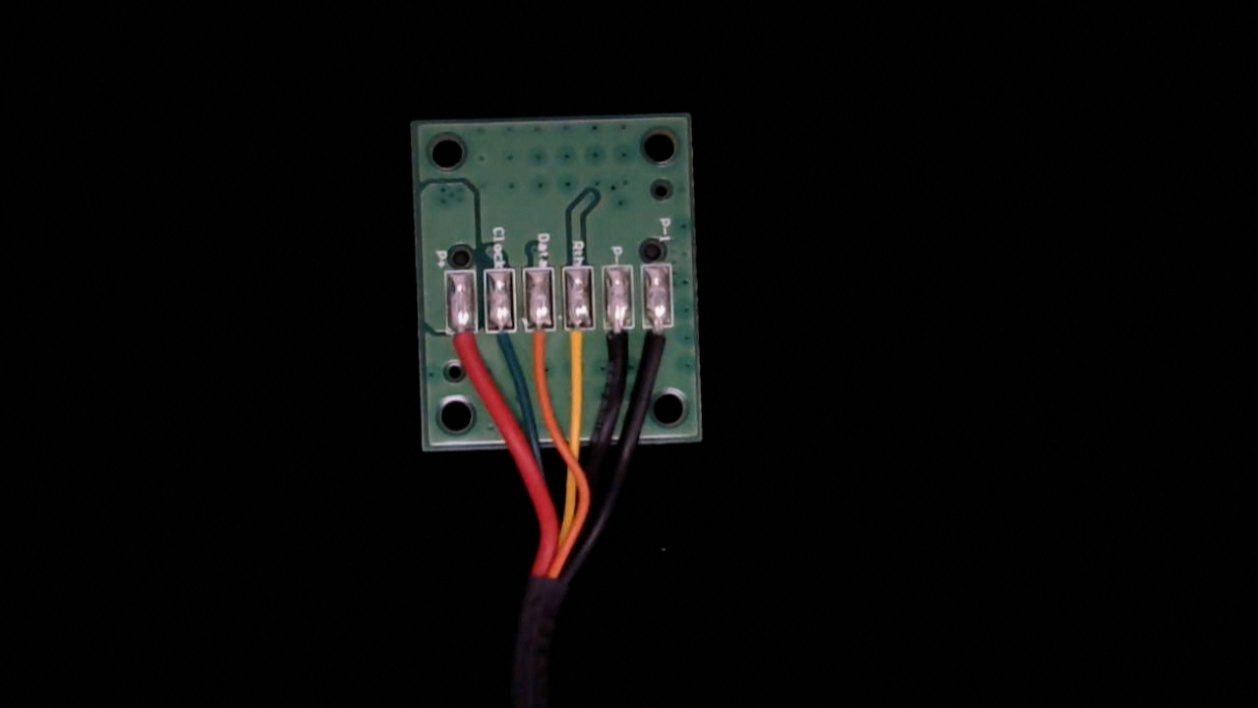Black: (604, 311, 634, 367)
Black1: (644, 311, 673, 374)
Green: (487, 310, 517, 372)
Orange: (525, 311, 555, 378)
Red: (447, 311, 479, 368)
Yellow: (566, 310, 593, 375)
